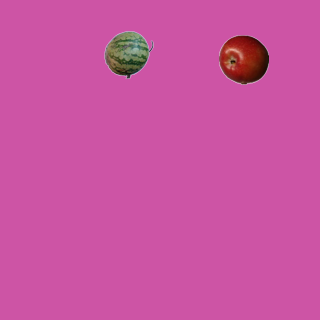Apple Braeburn: (218, 34, 268, 84)
Watermelon: (103, 29, 153, 79)
